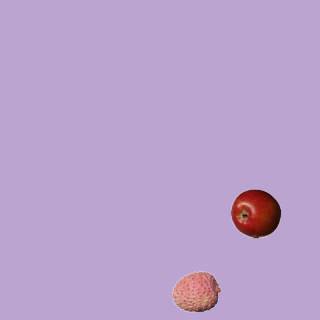Apple Braeburn: (230, 188, 280, 238)
Lychee: (171, 266, 221, 316)
